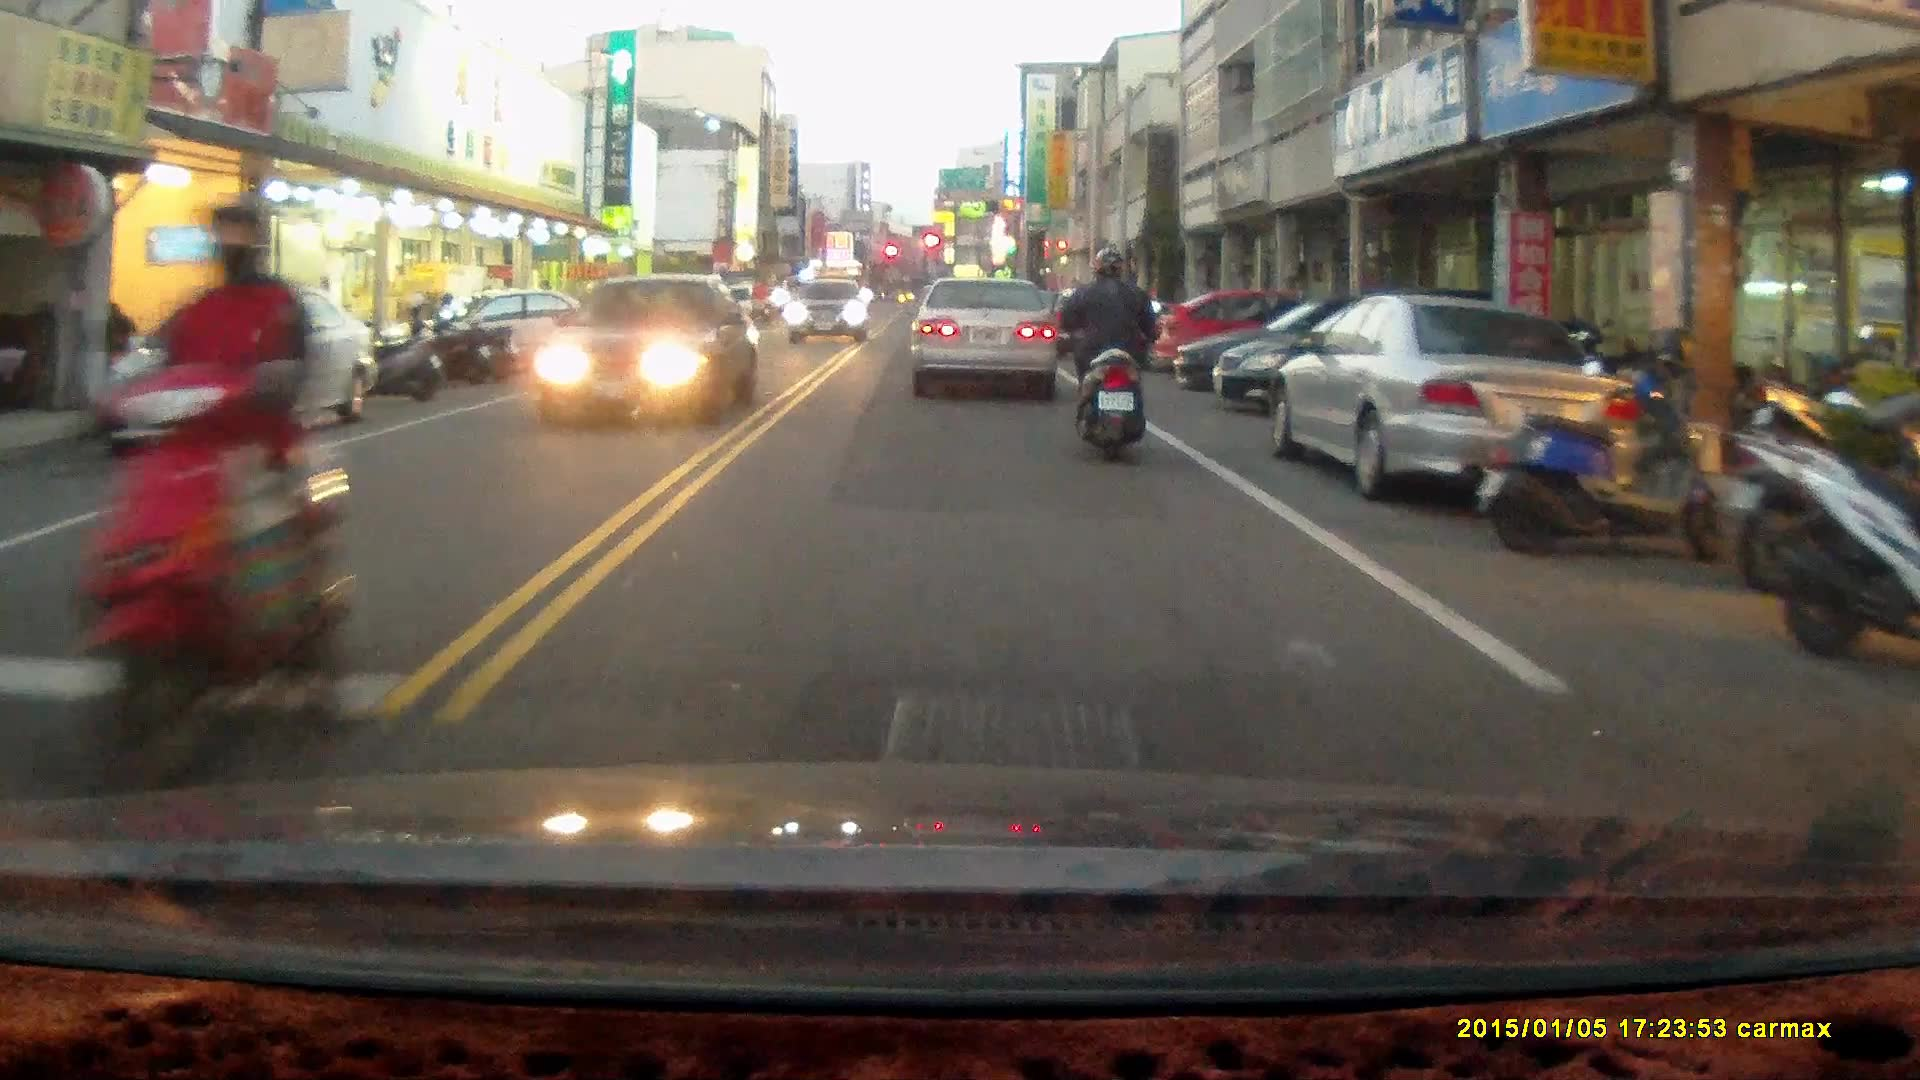rider: (69, 189, 355, 786), (1053, 246, 1164, 464)
vehicle: (1263, 295, 1640, 506), (85, 287, 371, 455), (1211, 297, 1511, 427), (536, 273, 758, 434), (1171, 308, 1478, 399), (1154, 295, 1386, 385), (906, 279, 1061, 401), (427, 293, 598, 381), (787, 286, 871, 353)
